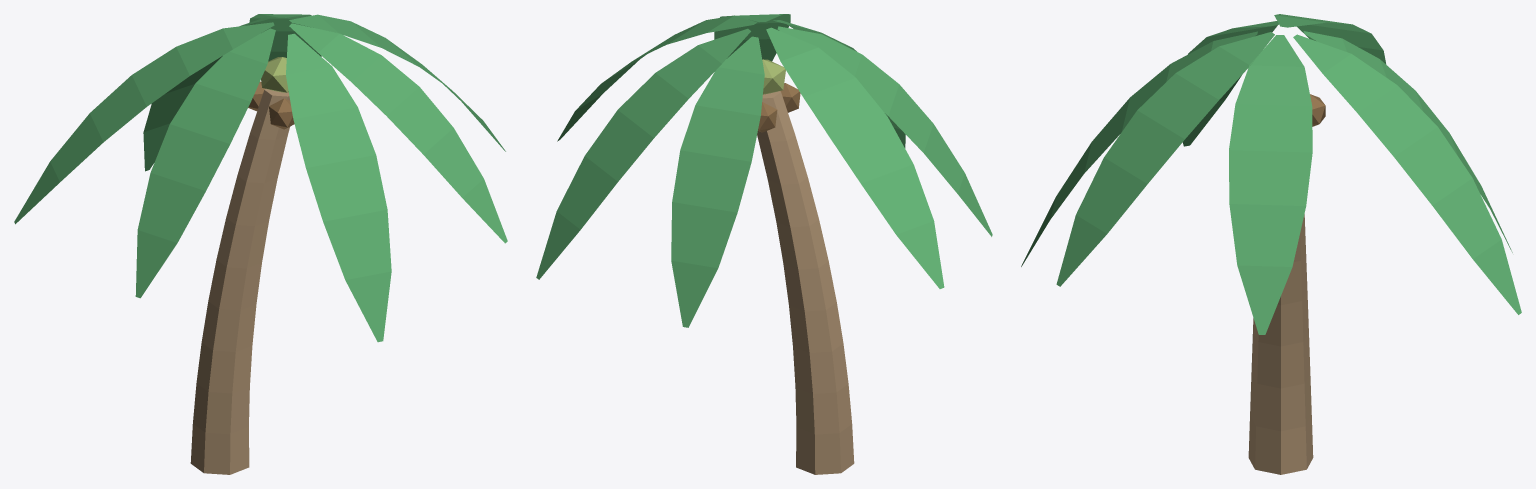
Rendered from 50-Vegetacion_palmera.glb.
3 views of the same model, side by side, from view 1: azimuth 30°, elevation 25°; view 2: azimuth 150°, elevation 25°; view 3: azimuth 270°, elevation 25° (orthographic). The views are drawn at different scales.
Parts seen in each view (by area): view 1: SM_Tronco_M_Hoja_Palmera, SM_Tronco_M_Tronco_Palmera, SM_Tronco_M_Coco, SM_Tronco_M_Corazon_Corona; view 2: SM_Tronco_M_Hoja_Palmera, SM_Tronco_M_Tronco_Palmera, SM_Tronco_M_Coco, SM_Tronco_M_Corazon_Corona; view 3: SM_Tronco_M_Hoja_Palmera, SM_Tronco_M_Tronco_Palmera.
Part boxes in pixels (x1,y1,x2,y2): SM_Tronco_M_Hoja_Palmera: [14, 14, 507, 342]; SM_Tronco_M_Tronco_Palmera: [190, 89, 289, 474]; SM_Tronco_M_Coco: [248, 81, 294, 129]; SM_Tronco_M_Corazon_Corona: [261, 57, 288, 92]; SM_Tronco_M_Hoja_Palmera: [536, 14, 992, 327]; SM_Tronco_M_Tronco_Palmera: [757, 91, 854, 474]; SM_Tronco_M_Coco: [758, 83, 800, 132]; SM_Tronco_M_Corazon_Corona: [762, 59, 785, 94]; SM_Tronco_M_Hoja_Palmera: [1021, 14, 1521, 334]; SM_Tronco_M_Tronco_Palmera: [1248, 214, 1313, 474].
Size of the model in its own units: 7.58 by 7 by 6.87.
